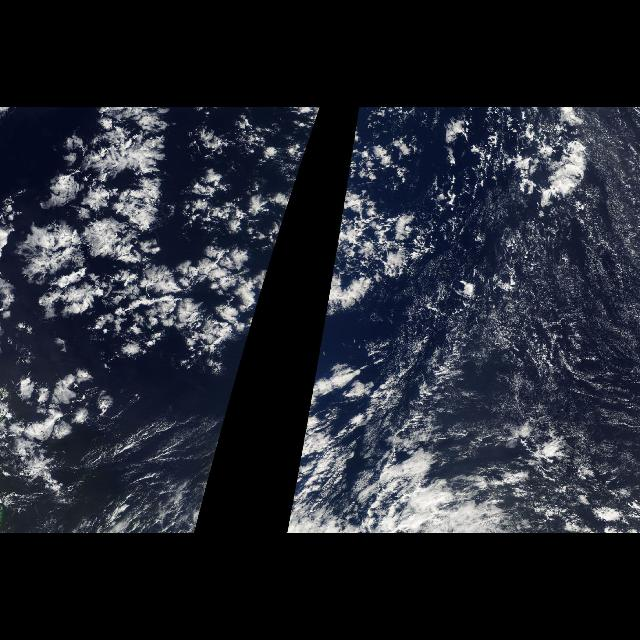Flower: (2, 107, 320, 453), (316, 109, 466, 361)
Sugar: (426, 190, 640, 454), (113, 411, 223, 533)
